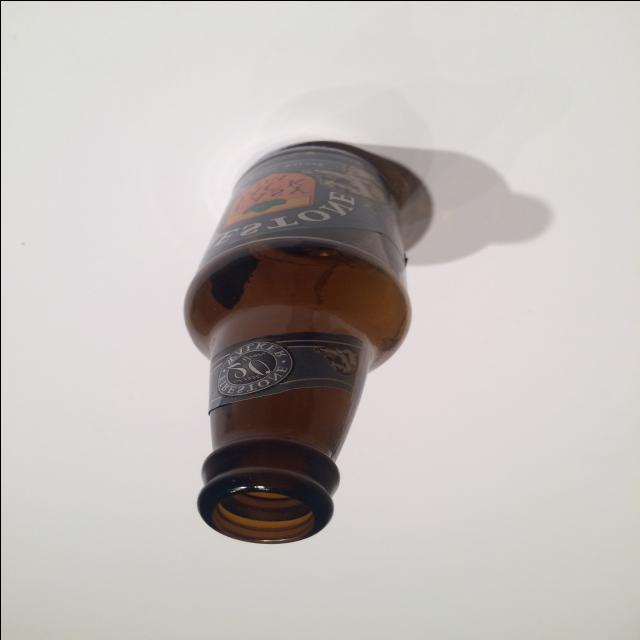glass: (178, 141, 412, 549)
